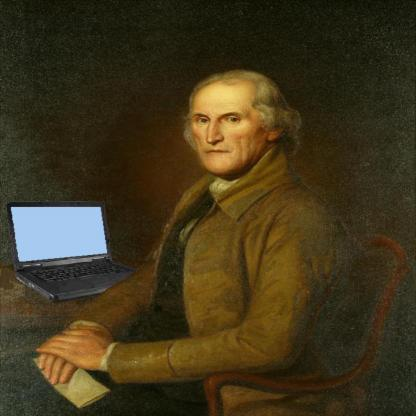board: (10, 196, 134, 310)
